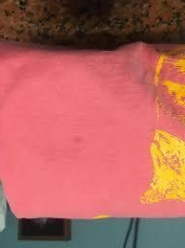oil: (67, 135, 88, 155)
